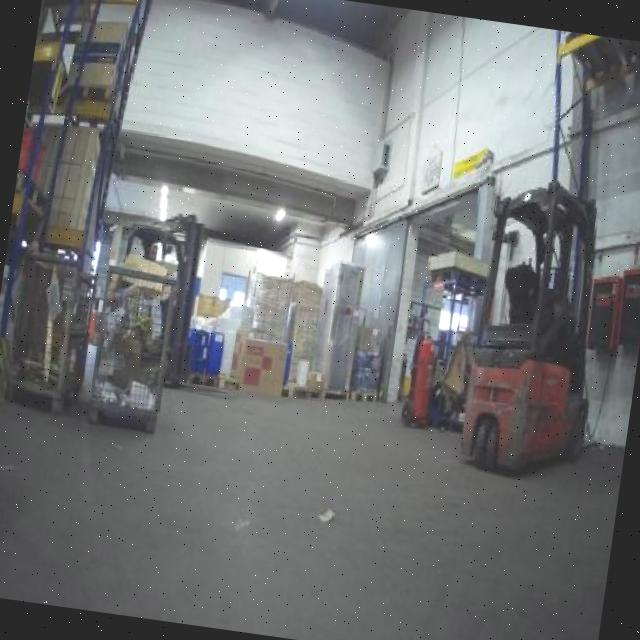pallet: (172, 363, 225, 393), (341, 386, 385, 409), (275, 385, 321, 402), (320, 384, 348, 406)
